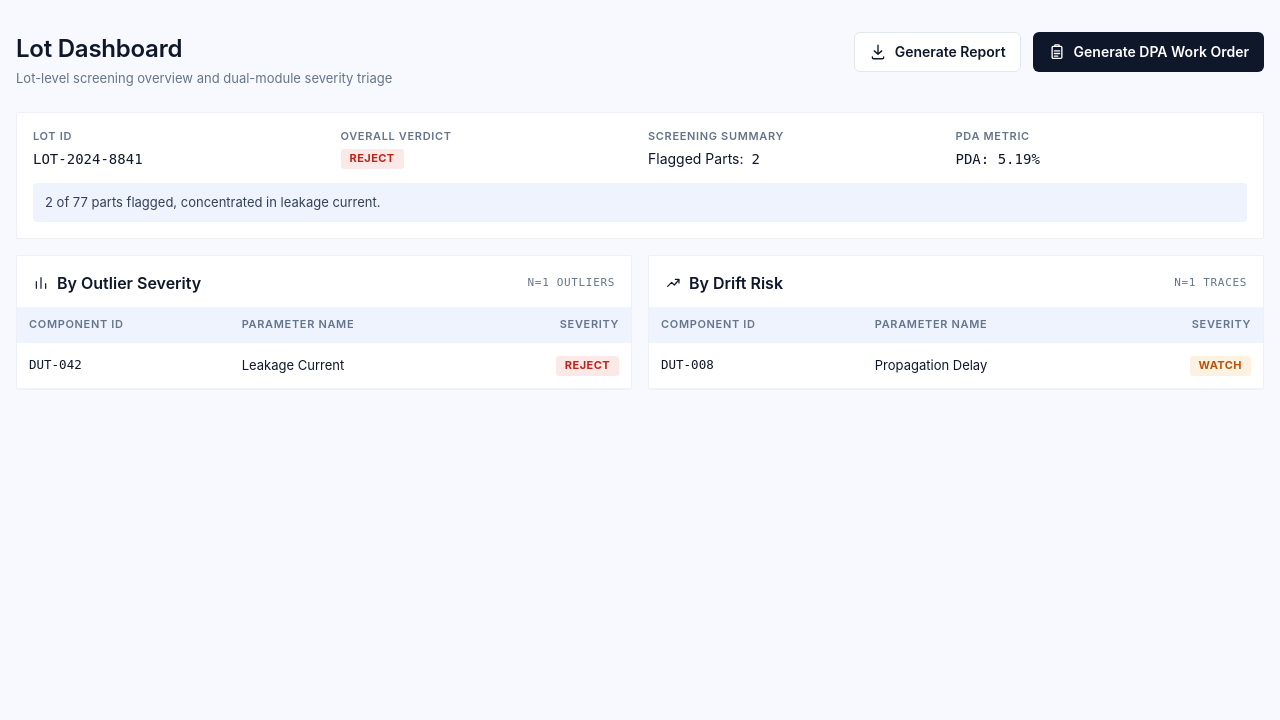
Test: Lot Dashboard screen (E6 screen 3) › Generate DPA Work Order only appears for a COMPLETE lot, and renders its recommendations
Check: the text "PDA: 5.19%" is shown, box [956, 151, 1040, 167]
Click the button "Generate DPA Work Order" at (1148, 52), box [1033, 32, 1264, 72]
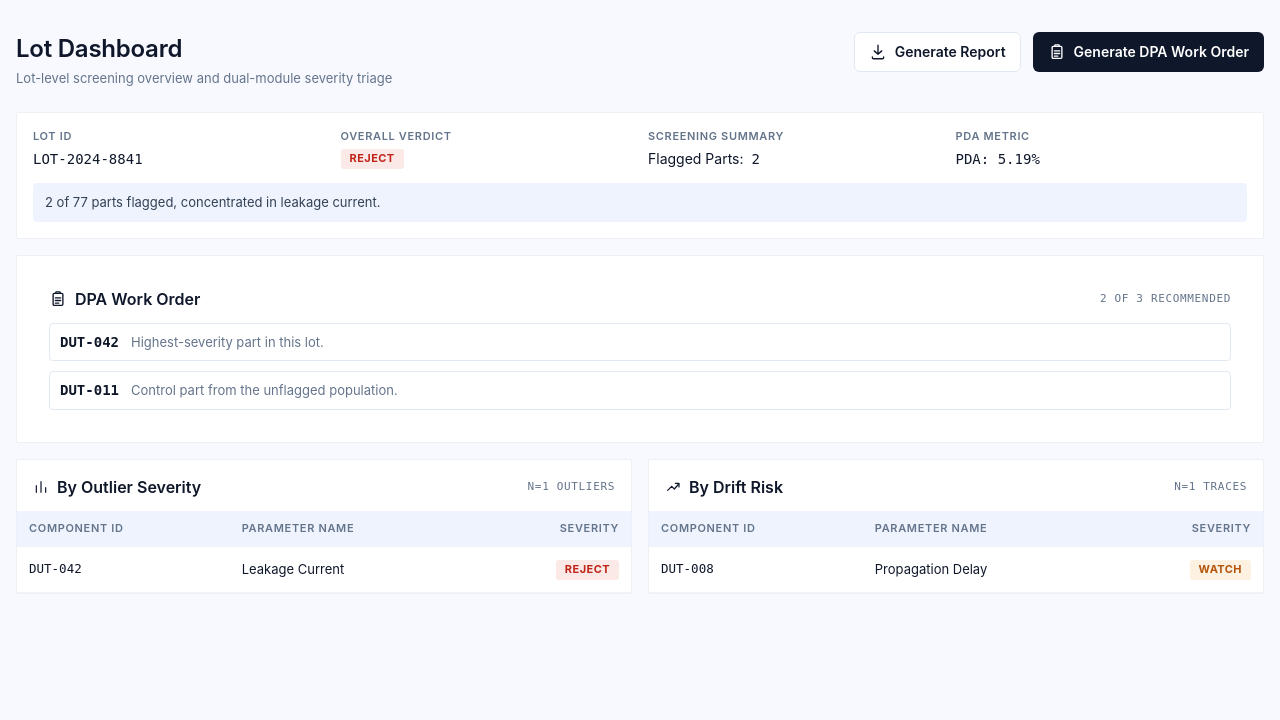
Check: the text "Highest-severity part in this lot." is shown, box [131, 333, 324, 352]
